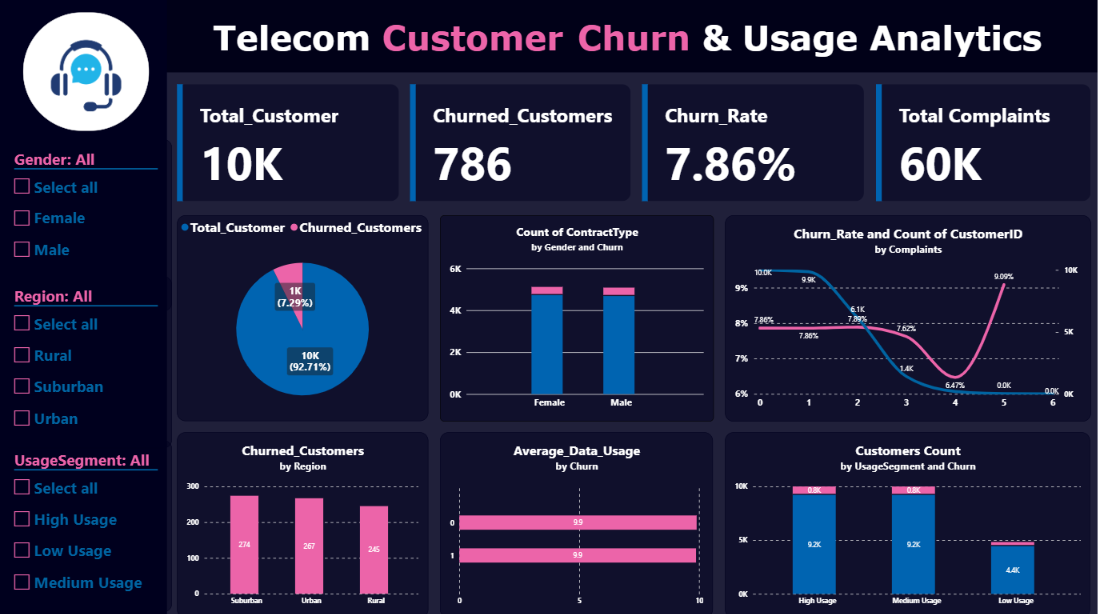

This screenshot's page, from the dashboard's own definition file:
{"tool":"powerbi","page":{"name":"Page 1","canvas":[1920,1080],"ordinal":0},"visuals":[{"type":"shape","box":[74.1,0,1846.3,127.6],"z":0},{"type":"shape","box":[0,0,291.5,1080.9],"z":1000},{"type":"image","box":[40,22.5,220,207.5],"z":2000},{"type":"cardVisual","fields":{"Data":["customer_info.Total_Customer"]},"box":[308.5,148.9,387.2,204.3],"z":3000},{"type":"cardVisual","fields":{"Data":["churn_labels.Churned_Customers"]},"box":[715.6,148.9,385.1,204.3],"z":4000},{"type":"cardVisual","fields":{"Data":["churn_labels.Churn_Rate"]},"box":[1120.6,148.9,387.2,204.3],"z":5000},{"type":"cardVisual","fields":{"Data":["usage_data.Total Complaints"]},"box":[1527.7,148.9,374.5,204.3],"z":6000},{"type":"textbox","box":[372.3,17,1546.8,110.6],"z":7000},{"type":"pieChart","fields":{"Y":["customer_info.Total_Customer","churn_labels.Churned_Customers"]},"box":[308.5,376.6,438.3,359.6],"z":8000},{"type":"columnChart","fields":{"Category":["customer_info.Gender"],"Series":["churn_labels.Churn"],"Y":["CountNonNull(customer_info.ContractType)"]},"box":[767.8,376.7,477.5,360.2],"z":9000},{"type":"columnChart","fields":{"Category":["customer_info.Region"],"Y":["churn_labels.Churned_Customers"]},"box":[308,756,438,324],"z":10000},{"type":"lineChart","fields":{"Category":["usage_data.Complaints"],"Y":["churn_labels.Churn_Rate"],"Y2":["CountNonNull(churn_labels.CustomerID)"]},"box":[1264,376,638,360],"z":11000},{"type":"clusteredBarChart","fields":{"Category":["churn_labels.Churn"],"Y":["usage_data.Average_Data_Usage"]},"box":[768,756,476,324],"z":12000},{"type":"columnChart","fields":{"Category":["usage_data.UsageSegment"],"Series":["churn_labels.Churn"],"Y":["usage_data.Customers Count"]},"box":[1264.3,755.7,637.1,324.3],"z":13000},{"type":"slicer","fields":{"Values":["customer_info.Gender"]},"box":[0,245,300,300],"z":14000},{"type":"slicer","fields":{"Values":["customer_info.Region"]},"box":[0,482.5,300,300],"z":14001},{"type":"slicer","fields":{"Values":["usage_data.UsageSegment"]},"box":[0,770,300,300],"z":14002}]}

Visuals, with their boxes in screenshot pixels (x1, y1, x2, y2), scaled from the page's 1920x1080 canvas onto the 1098x614 screenshot:
shape: (x1=42, y1=0, x2=1097, y2=73)
shape: (x1=0, y1=0, x2=167, y2=613)
image: (x1=23, y1=13, x2=149, y2=131)
cardVisual - customer_info.Total_Customer: (x1=176, y1=85, x2=398, y2=201)
cardVisual - churn_labels.Churned_Customers: (x1=409, y1=85, x2=629, y2=201)
cardVisual - churn_labels.Churn_Rate: (x1=641, y1=85, x2=862, y2=201)
cardVisual - usage_data.Total Complaints: (x1=874, y1=85, x2=1088, y2=201)
textbox: (x1=213, y1=10, x2=1097, y2=73)
pieChart - customer_info.Total_Customer x churn_labels.Churned_Customers: (x1=176, y1=214, x2=427, y2=419)
columnChart - customer_info.Gender x churn_labels.Churn: (x1=439, y1=214, x2=712, y2=419)
columnChart - customer_info.Region x churn_labels.Churned_Customers: (x1=176, y1=430, x2=427, y2=613)
lineChart - usage_data.Complaints x churn_labels.Churn_Rate: (x1=723, y1=214, x2=1088, y2=418)
clusteredBarChart - churn_labels.Churn x usage_data.Average_Data_Usage: (x1=439, y1=430, x2=711, y2=613)
columnChart - usage_data.UsageSegment x churn_labels.Churn: (x1=723, y1=430, x2=1087, y2=613)
slicer - customer_info.Gender: (x1=0, y1=139, x2=172, y2=310)
slicer - customer_info.Region: (x1=0, y1=274, x2=172, y2=445)
slicer - usage_data.UsageSegment: (x1=0, y1=438, x2=172, y2=608)
